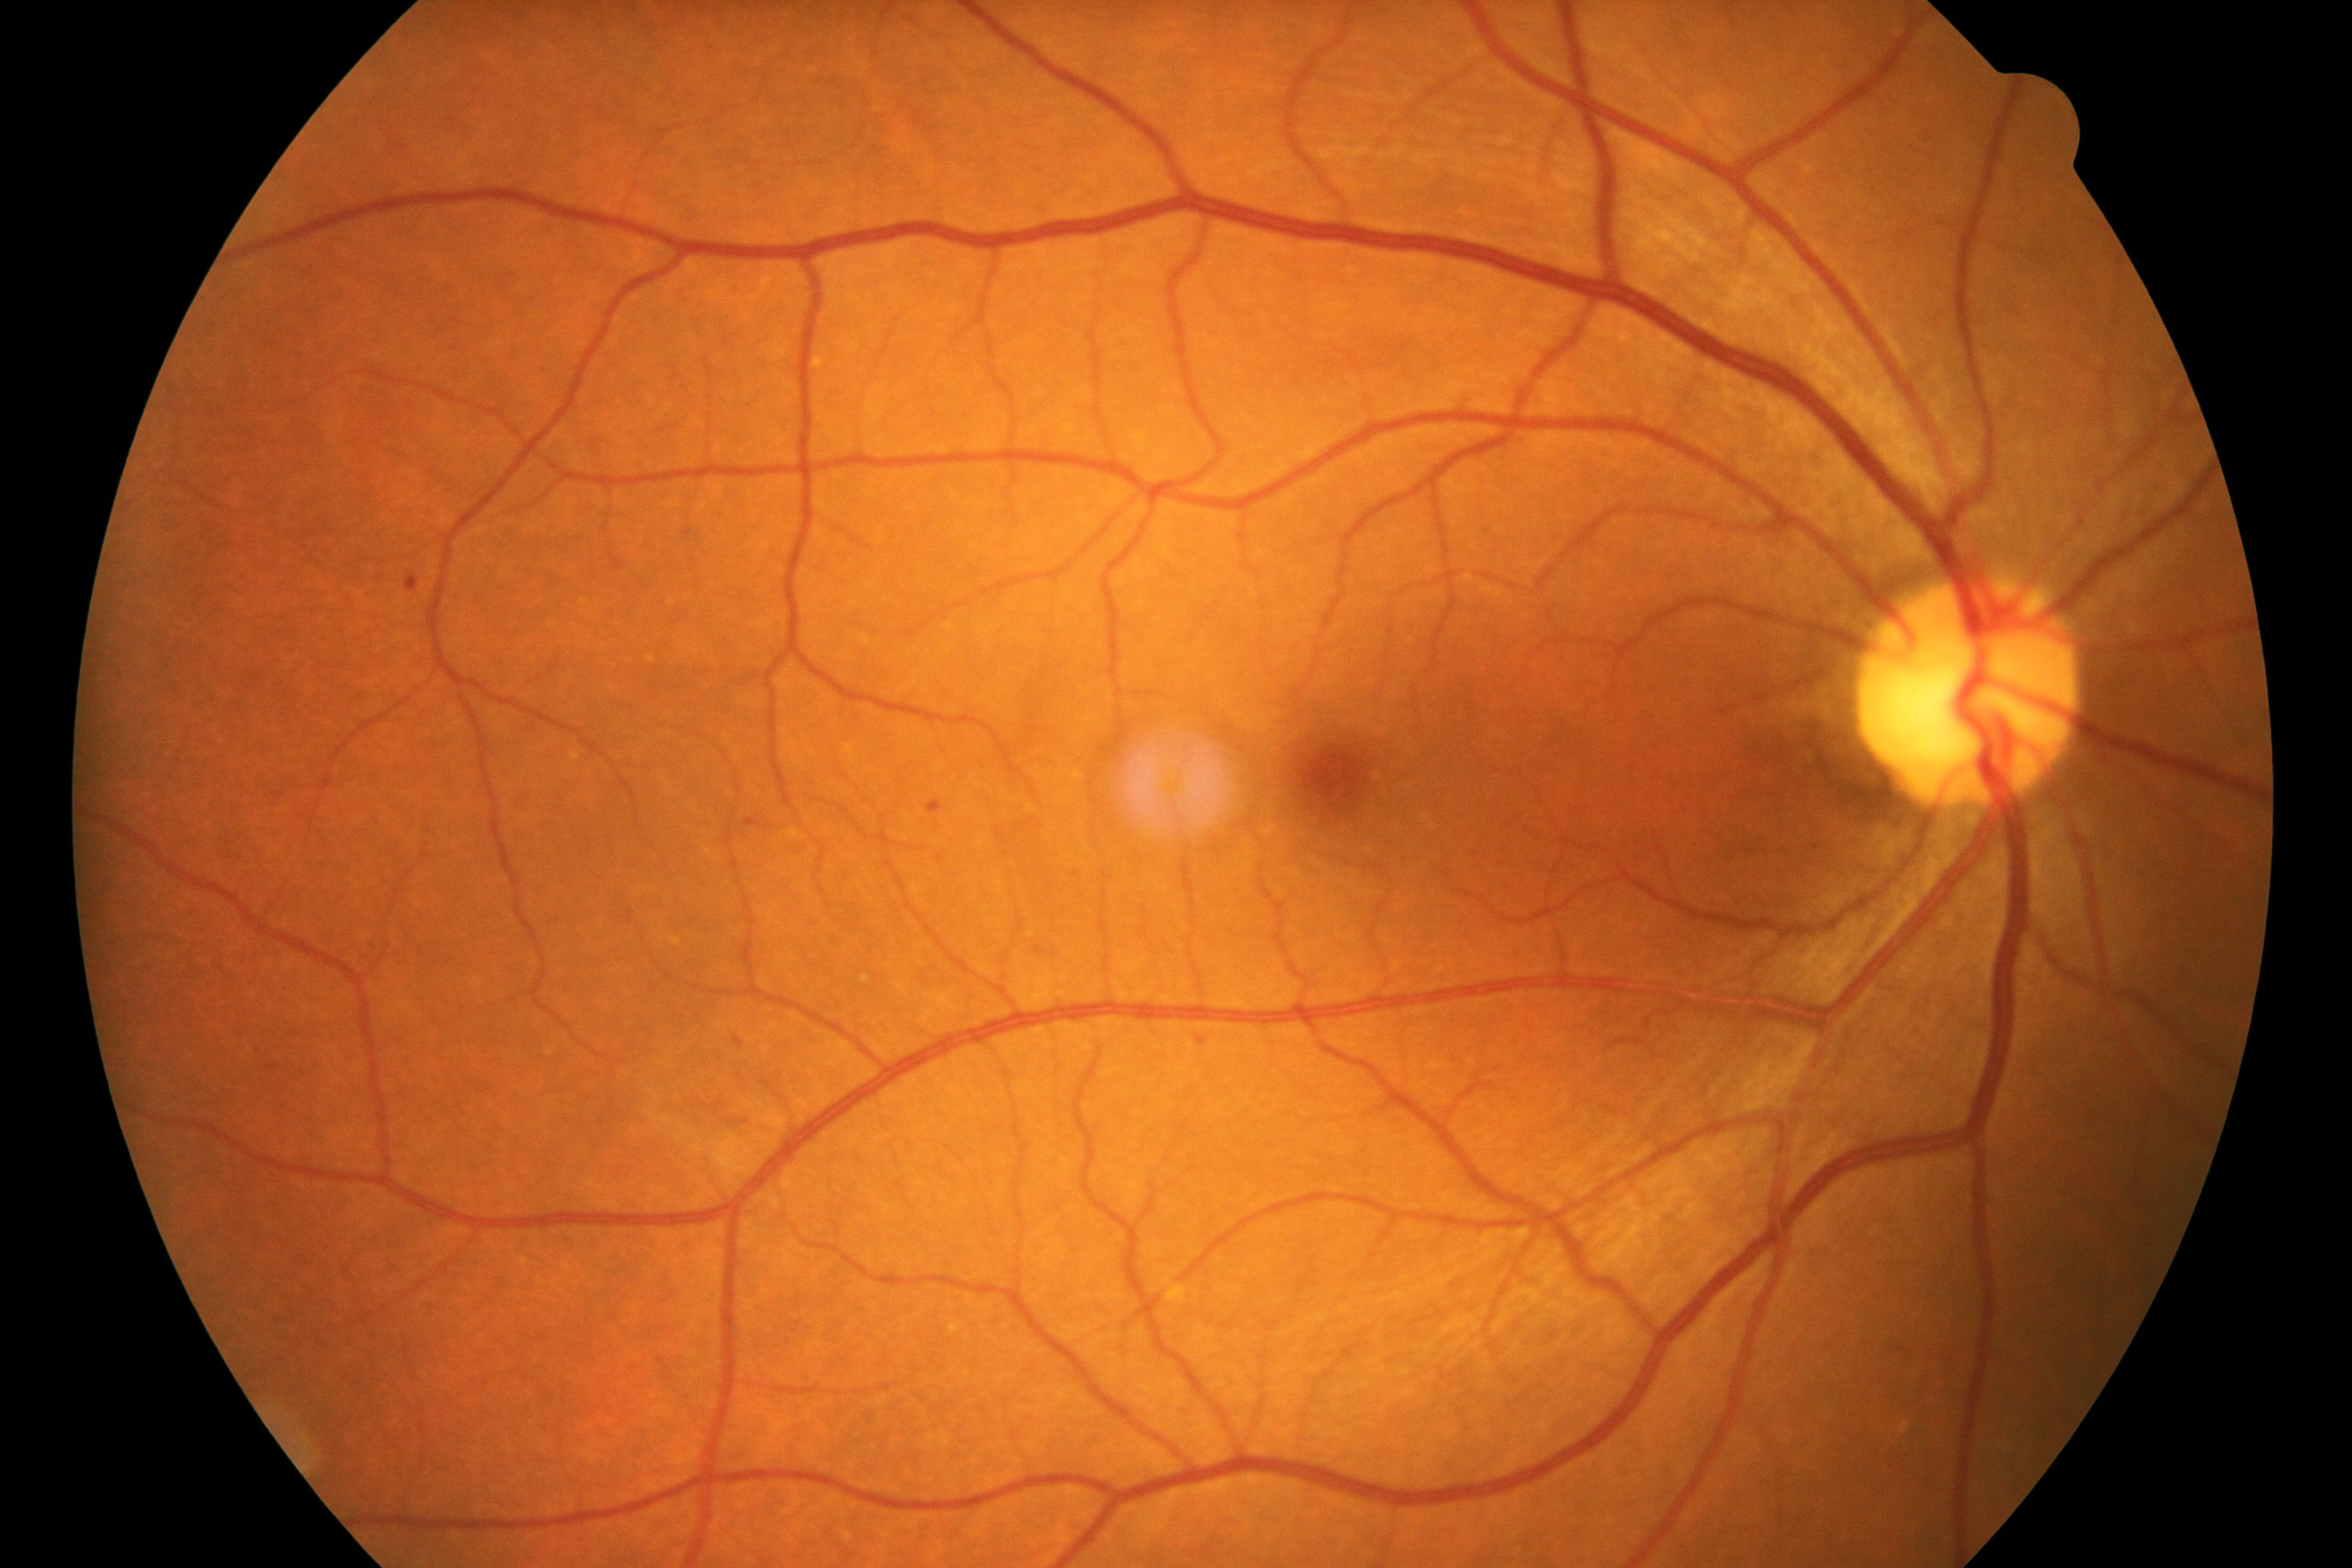Glaucoma section-1: (1902, 639, 2032, 765)
Glaucoma section-2: (1853, 571, 2084, 812)
